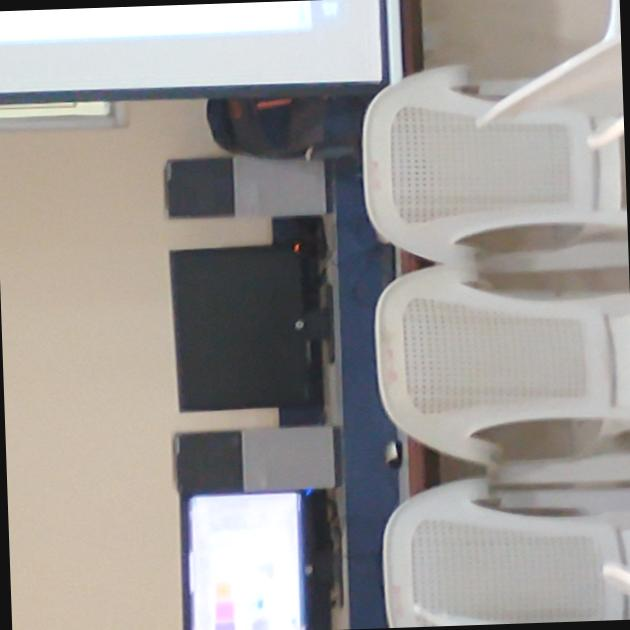computer: (158, 225, 340, 420)
cpu: (162, 418, 356, 504)
